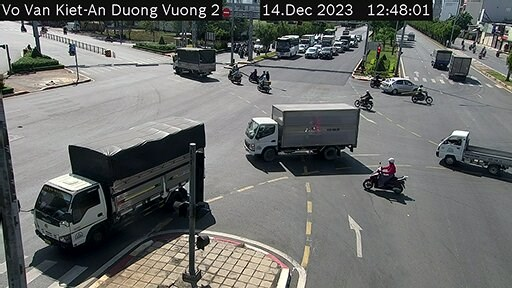car: (379, 78, 417, 97), (277, 32, 296, 62), (303, 44, 319, 59), (323, 45, 334, 61)
motorbike: (372, 157, 411, 200), (225, 62, 242, 85), (354, 87, 371, 109), (412, 84, 430, 104), (257, 69, 272, 92), (249, 65, 266, 83)
truck: (30, 118, 230, 258), (240, 101, 361, 166), (440, 126, 510, 190), (428, 44, 457, 74), (445, 52, 467, 85)
